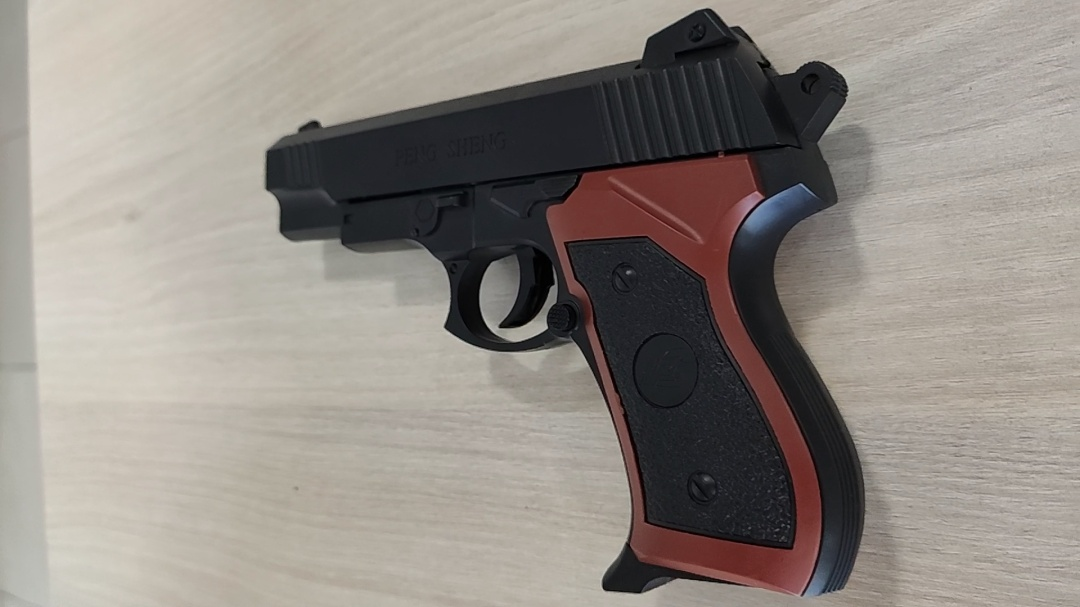gun: (267, 7, 870, 602)
